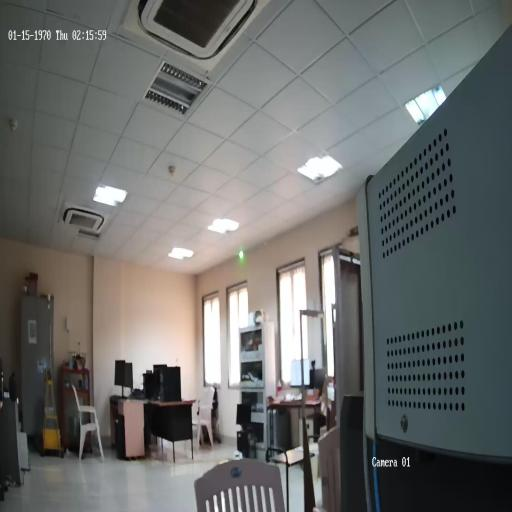laser: (238, 250, 244, 262)
